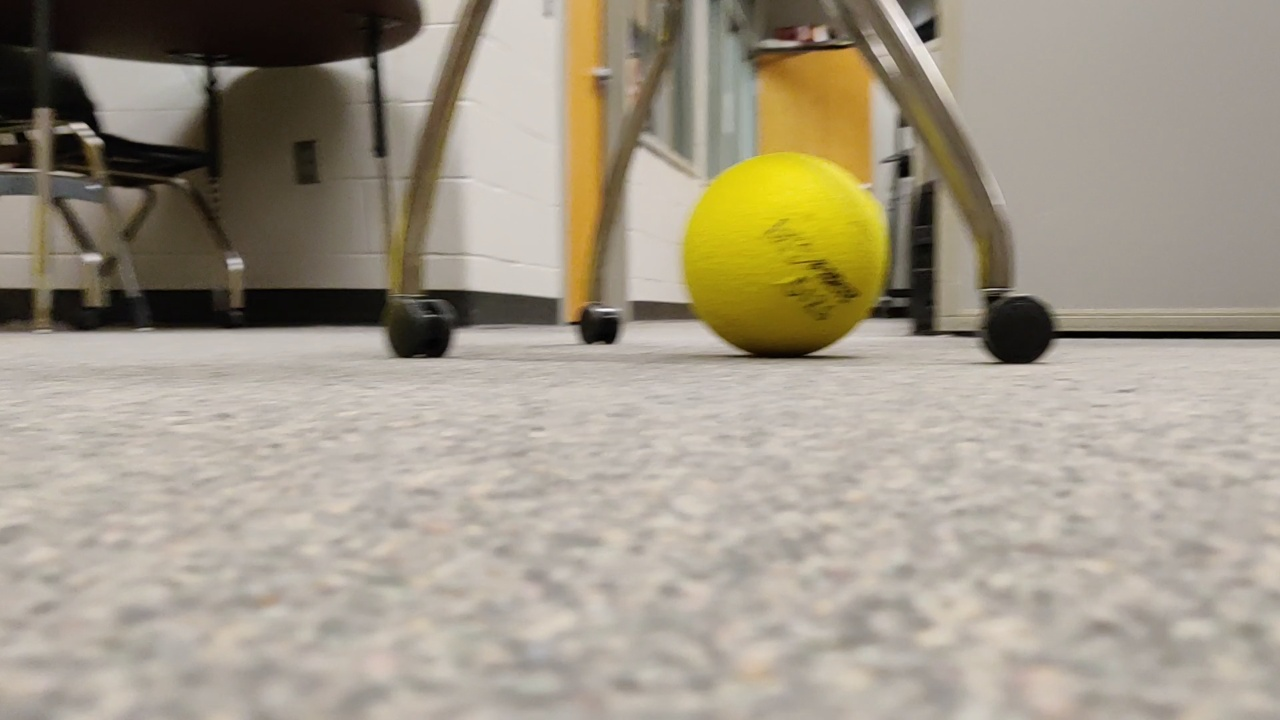Ball: (673, 135, 898, 359)
